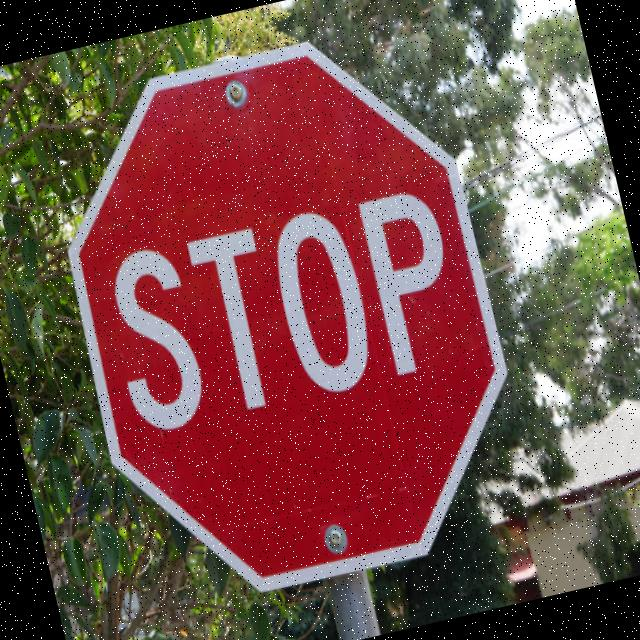stop: (0, 0, 553, 626)
